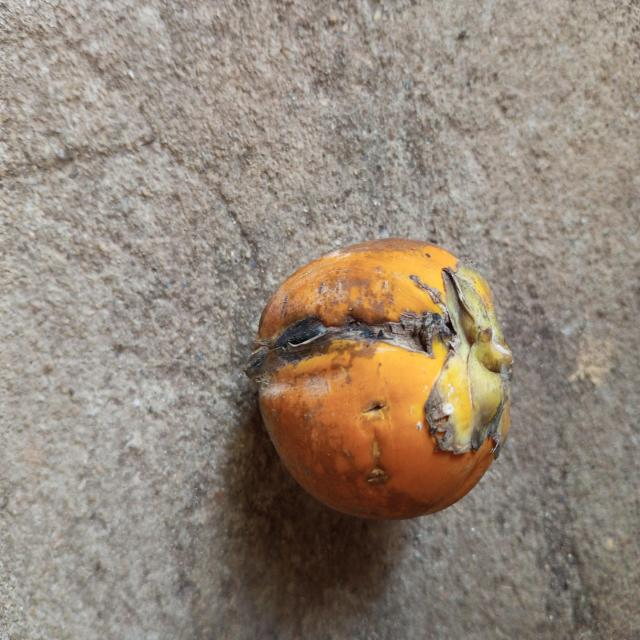damaged: (246, 239, 514, 523)
